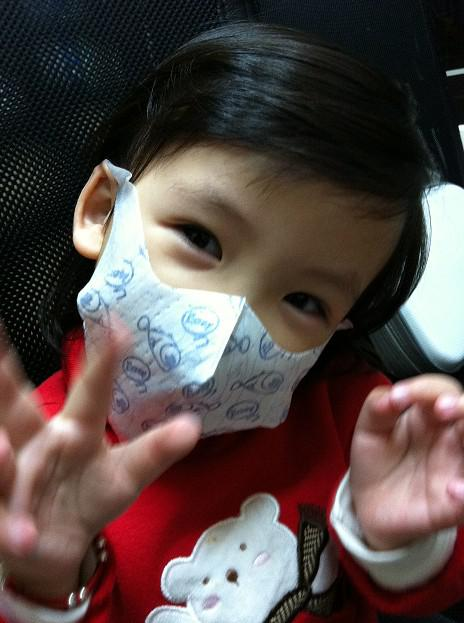OK: (97, 196, 344, 439)
